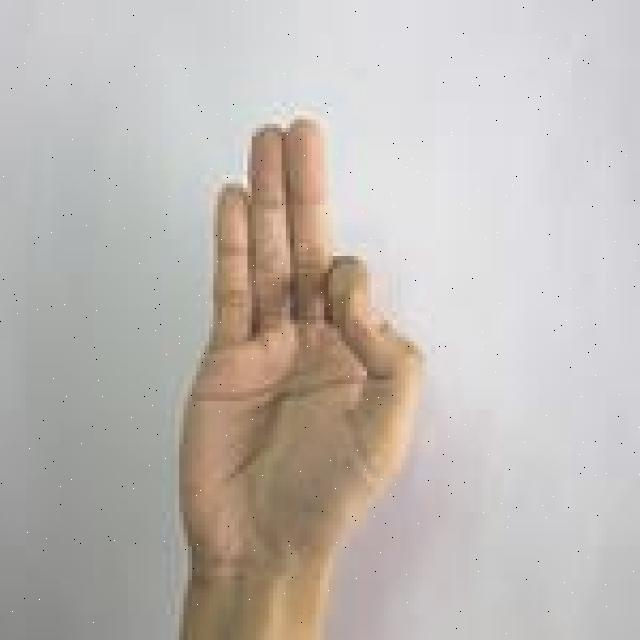F: (167, 114, 424, 640)
